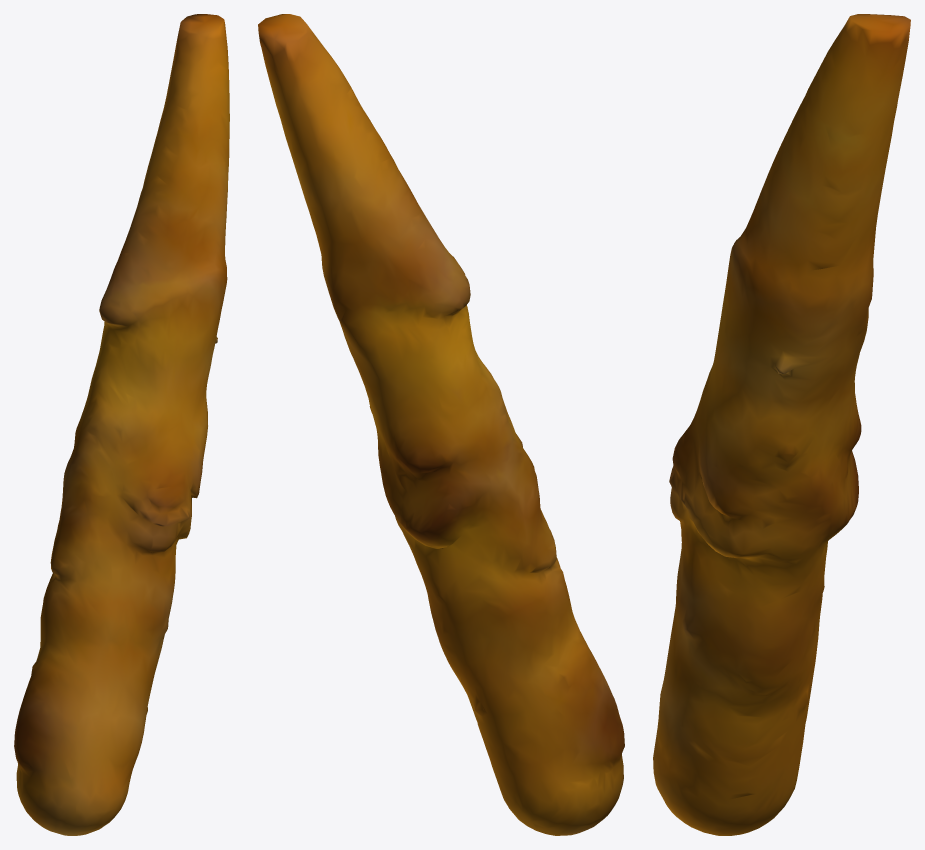
The model's file is Lava_lod1.fbx.
3 views of the same model, side by side, from view 1: azimuth 30°, elevation 25°; view 2: azimuth 150°, elevation 25°; view 3: azimuth 270°, elevation 25° (orthographic). The views are drawn at different scales.
Visible parts, largest first — view 1: Lava; view 2: Lava; view 3: Lava.
Part boxes in pixels (bbox=[...]): Lava: bbox=[14, 14, 229, 835]; Lava: bbox=[258, 14, 624, 835]; Lava: bbox=[653, 14, 910, 835].
Bounding box in the file's own units: 1.13 × 0.7439 × 2.96.
